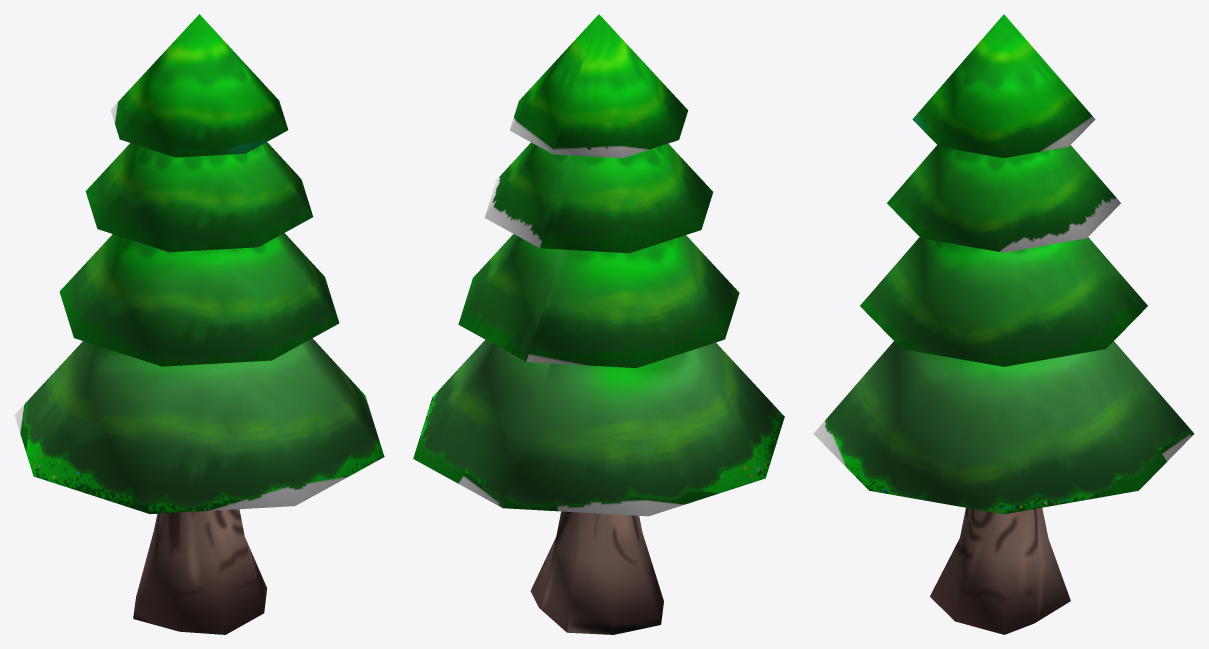
The model's file is tree.glb.
3 views of the same model, side by side, from view 1: azimuth 30°, elevation 25°; view 2: azimuth 150°, elevation 25°; view 3: azimuth 270°, elevation 25° (orthographic).
Visible parts, largest first — view 1: Tree; view 2: Tree; view 3: Tree.
Boxes of the visible parts, box(x1,y1,x2,y2) form: Tree: box(14, 14, 384, 634); Tree: box(413, 14, 784, 634); Tree: box(813, 14, 1194, 634).
Bounding box in the file's own units: 1.98 × 3.36 × 1.98.
Materials: 1 (1 with a texture image).
